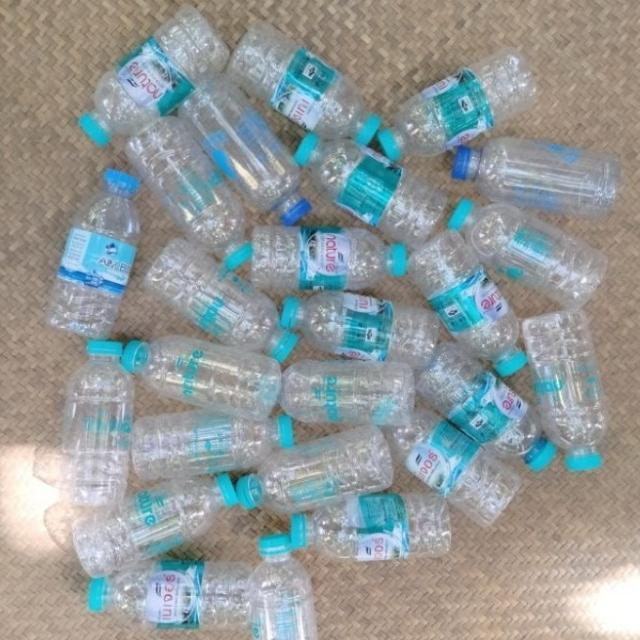PET Bottle: (21, 11, 614, 640)
